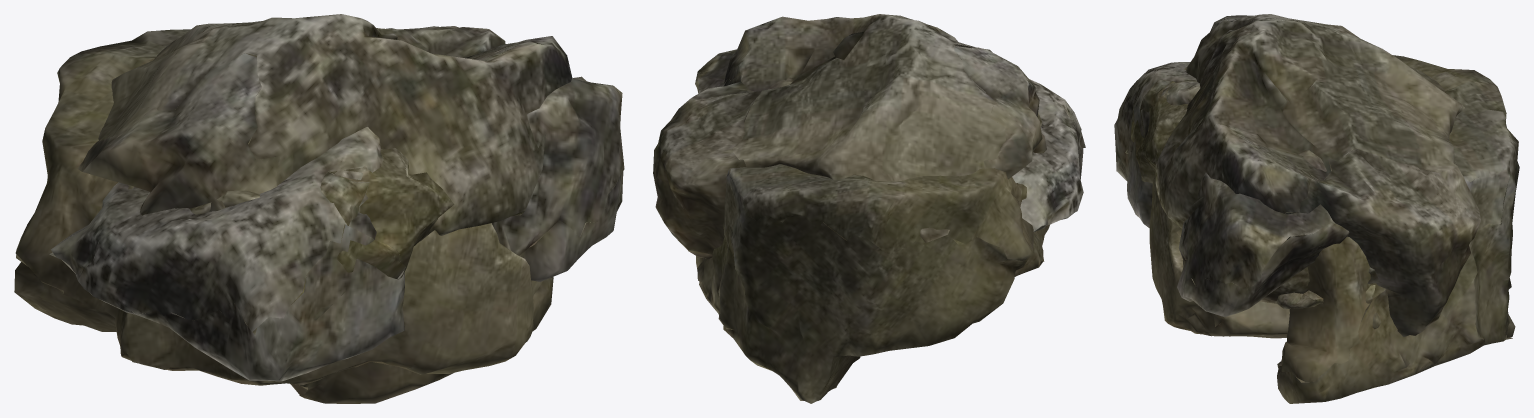
File: rock.glb
The picture shows the model from 3 angles, left to right: view 1: azimuth 30°, elevation 25°; view 2: azimuth 150°, elevation 25°; view 3: azimuth 270°, elevation 25°; orthographic projection. The views are drawn at different scales.
Parts seen in each view (by area): view 1: rock_moss_set_02_rock11, rock_moss_set_02_rock10, rock_moss_set_02_rock07, rock_moss_set_02_rock13, rock_moss_set_02_rock12; view 2: rock_moss_set_02_rock13, rock_moss_set_02_rock11, rock_moss_set_02_rock10, rock_moss_set_02_rock07; view 3: rock_moss_set_02_rock11, rock_moss_set_02_rock13, rock_moss_set_02_rock10, rock_moss_set_02_rock07, rock_moss_set_02_rock12, rock_moss_set_02_rock09.
Boxes of the visible parts, x1=… form: rock_moss_set_02_rock11: x1=77, y1=14, x2=572, y2=241; rock_moss_set_02_rock10: x1=49, y1=76, x2=624, y2=381; rock_moss_set_02_rock07: x1=115, y1=223, x2=533, y2=385; rock_moss_set_02_rock13: x1=14, y1=29, x2=553, y2=403; rock_moss_set_02_rock12: x1=190, y1=89, x2=454, y2=320; rock_moss_set_02_rock13: x1=696, y1=119, x2=1033, y2=403; rock_moss_set_02_rock11: x1=653, y1=14, x2=1046, y2=259; rock_moss_set_02_rock10: x1=695, y1=49, x2=1085, y2=231; rock_moss_set_02_rock07: x1=1014, y1=225, x2=1049, y2=276; rock_moss_set_02_rock11: x1=1155, y1=14, x2=1480, y2=336; rock_moss_set_02_rock13: x1=1277, y1=55, x2=1519, y2=403; rock_moss_set_02_rock10: x1=1114, y1=62, x2=1352, y2=316; rock_moss_set_02_rock07: x1=1149, y1=175, x2=1381, y2=338; rock_moss_set_02_rock12: x1=1125, y1=67, x2=1381, y2=303; rock_moss_set_02_rock09: x1=1275, y1=290, x2=1323, y2=309.
Bounding box in the file's own units: 2.23 × 1.7 × 1.9.
1 material, 1 textured.
